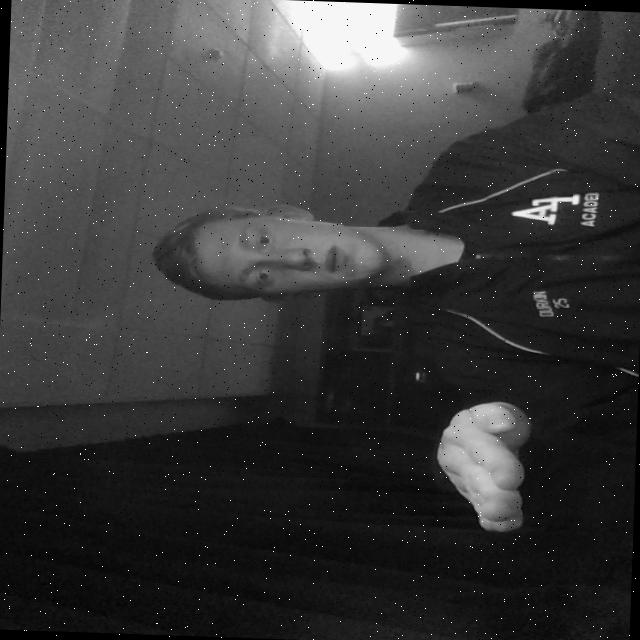paper: (418, 392, 555, 538)
